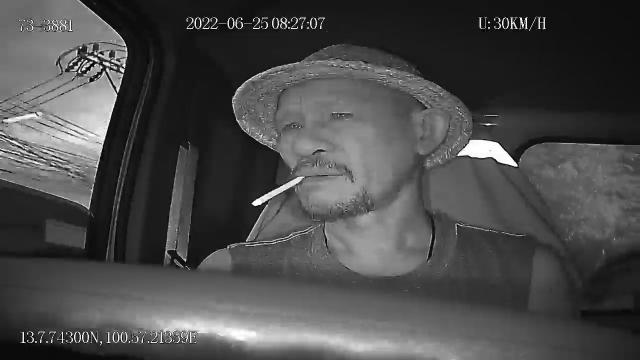SafeDriving: (324, 103, 362, 126), (278, 116, 308, 135)
Smoking: (252, 178, 304, 206)
